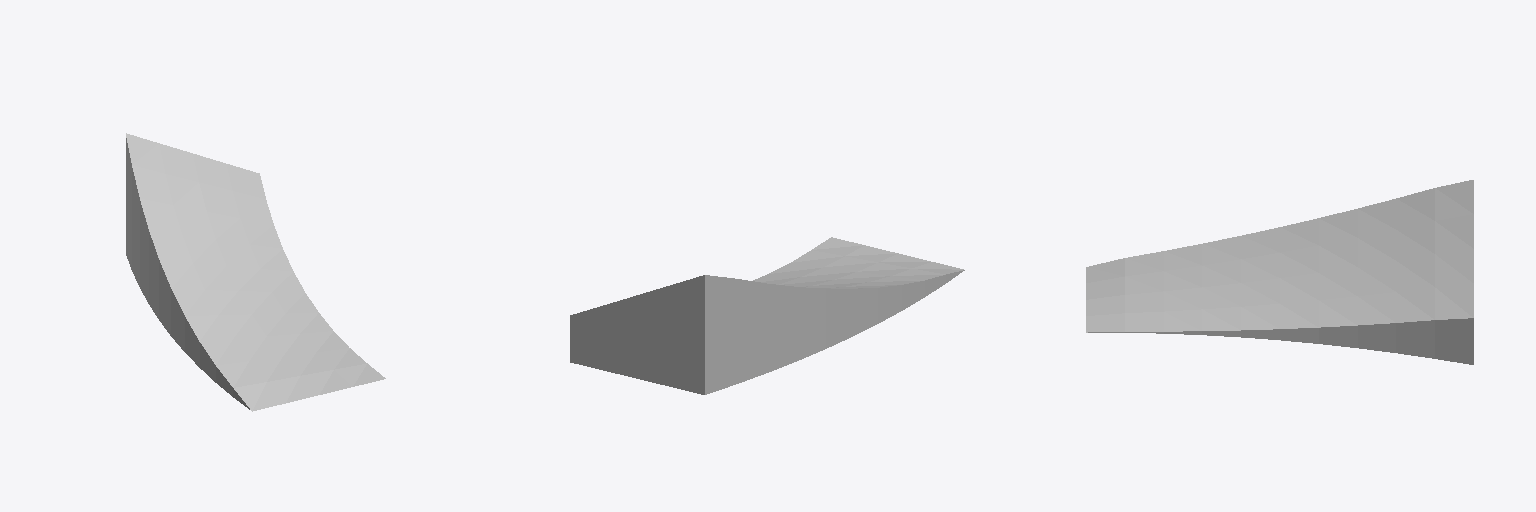
The model's file is curved_ramp_V4_L.obj.
3 renders of one model, left to right at view 1: azimuth 30°, elevation 25°; view 2: azimuth 150°, elevation 25°; view 3: azimuth 270°, elevation 25°, orthographic.
Visible parts, largest first — view 1: Cube.001; view 2: Cube.001; view 3: Cube.001.
Boxes of the visible parts, x1,y1,x2,y2 form: Cube.001: [126, 133, 385, 411]; Cube.001: [570, 237, 964, 394]; Cube.001: [1086, 180, 1473, 364].
Bounding box in the file's own units: 1.2 × 0.6853 × 2.